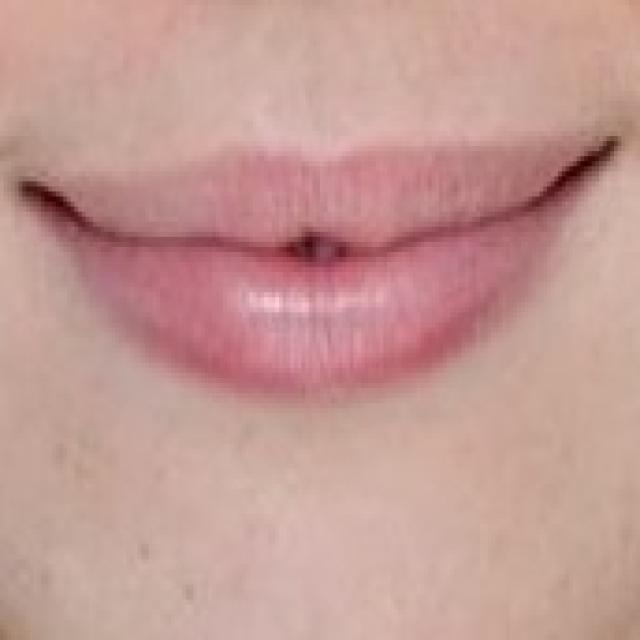closed-mouth: (11, 116, 622, 398)
